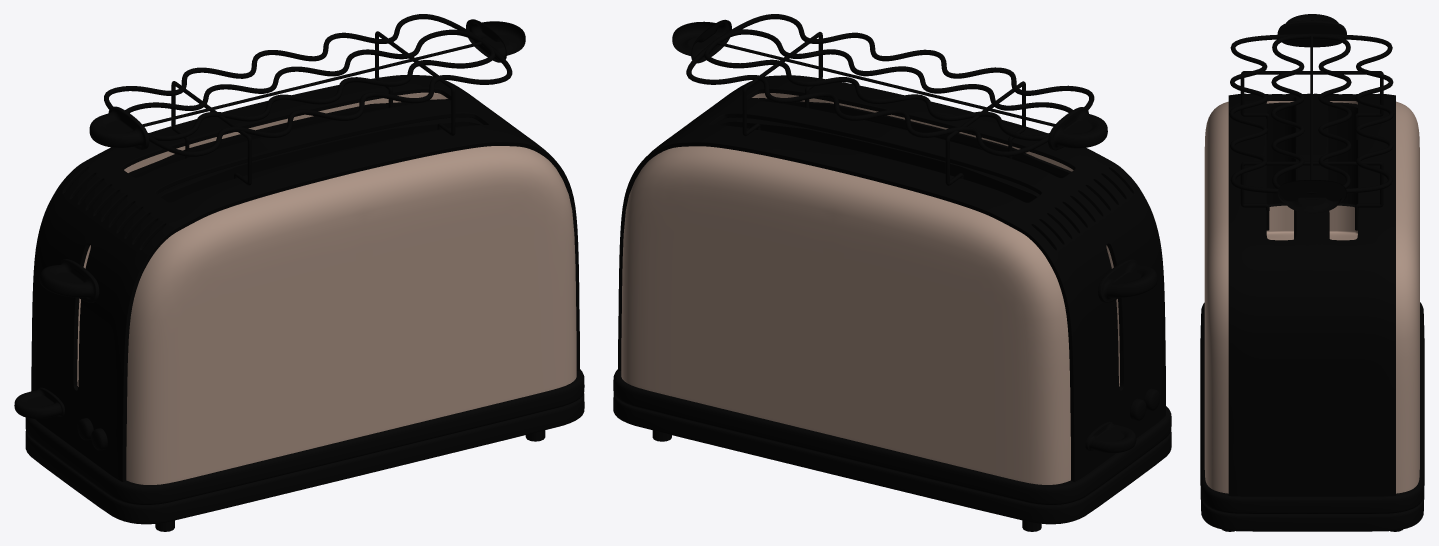
File: models_116_05_fbx_toaster.fbx
3 renders of one model, left to right at view 1: azimuth 30°, elevation 25°; view 2: azimuth 150°, elevation 25°; view 3: azimuth 270°, elevation 25°, orthographic. The views are drawn at different scales.
Parts seen in each view (by area): view 1: cgaxis_models_116_05_01_01, cgaxis_models_116_05_02_01, cgaxis_models_116_05_03_01, cgaxis_models_116_05_02_08, cgaxis_models_116_05_02_02, cgaxis_models_116_05_02_03, cgaxis_models_116_05_03_08, cgaxis_models_116_05_03_07, cgaxis_models_116_05_03_09, cgaxis_models_116_05_02_04, cgaxis_models_116_05_03_06, cgaxis_models_116_05_02_05 (+1 smaller); view 2: cgaxis_models_116_05_01_01, cgaxis_models_116_05_02_01, cgaxis_models_116_05_03_01, cgaxis_models_116_05_02_08, cgaxis_models_116_05_02_02, cgaxis_models_116_05_02_03, cgaxis_models_116_05_03_08, cgaxis_models_116_05_03_07, cgaxis_models_116_05_03_09, cgaxis_models_116_05_02_04, cgaxis_models_116_05_03_06, cgaxis_models_116_05_02_06 (+1 smaller); view 3: cgaxis_models_116_05_02_01, cgaxis_models_116_05_01_01, cgaxis_models_116_05_03_01, cgaxis_models_116_05_02_02, cgaxis_models_116_05_02_08, cgaxis_models_116_05_02_03, cgaxis_models_116_05_03_09, cgaxis_models_116_05_03_08, cgaxis_models_116_05_02_06, cgaxis_models_116_05_02_05, cgaxis_models_116_05_02_04.
Part boxes in pixels (left/top/right/bottom): cgaxis_models_116_05_01_01: left=77, top=92, right=576, bottom=484; cgaxis_models_116_05_02_01: left=31, top=75, right=579, bottom=481; cgaxis_models_116_05_03_01: left=25, top=369, right=584, bottom=524; cgaxis_models_116_05_02_08: left=128, top=99, right=483, bottom=202; cgaxis_models_116_05_02_02: left=104, top=14, right=512, bottom=156; cgaxis_models_116_05_02_03: left=125, top=29, right=495, bottom=141; cgaxis_models_116_05_03_08: left=89, top=106, right=149, bottom=149; cgaxis_models_116_05_03_07: left=39, top=259, right=99, bottom=302; cgaxis_models_116_05_03_09: left=466, top=19, right=525, bottom=62; cgaxis_models_116_05_02_04: left=142, top=41, right=481, bottom=126; cgaxis_models_116_05_03_06: left=14, top=387, right=64, bottom=418; cgaxis_models_116_05_02_05: left=171, top=81, right=251, bottom=185; cgaxis_models_116_05_01_01: left=621, top=93, right=1119, bottom=484; cgaxis_models_116_05_02_01: left=618, top=75, right=1165, bottom=481; cgaxis_models_116_05_03_01: left=613, top=369, right=1171, bottom=524; cgaxis_models_116_05_02_08: left=714, top=98, right=1071, bottom=202; cgaxis_models_116_05_02_02: left=686, top=14, right=1094, bottom=156; cgaxis_models_116_05_02_03: left=704, top=29, right=1072, bottom=140; cgaxis_models_116_05_03_08: left=1048, top=107, right=1107, bottom=150; cgaxis_models_116_05_03_07: left=1098, top=259, right=1157, bottom=302; cgaxis_models_116_05_03_09: left=672, top=19, right=731, bottom=63; cgaxis_models_116_05_02_04: left=717, top=41, right=1055, bottom=126; cgaxis_models_116_05_03_06: left=1085, top=421, right=1136, bottom=453; cgaxis_models_116_05_02_06: left=742, top=32, right=822, bottom=136; cgaxis_models_116_05_02_01: left=1228, top=93, right=1395, bottom=496; cgaxis_models_116_05_01_01: left=1204, top=101, right=1419, bottom=493; cgaxis_models_116_05_03_01: left=1200, top=302, right=1424, bottom=531; cgaxis_models_116_05_02_02: left=1229, top=33, right=1394, bottom=193; cgaxis_models_116_05_02_08: left=1266, top=102, right=1357, bottom=239; cgaxis_models_116_05_02_03: left=1271, top=33, right=1351, bottom=193; cgaxis_models_116_05_03_09: left=1277, top=180, right=1346, bottom=213; cgaxis_models_116_05_03_08: left=1277, top=14, right=1346, bottom=47; cgaxis_models_116_05_02_06: left=1240, top=161, right=1383, bottom=230; cgaxis_models_116_05_02_05: left=1240, top=71, right=1383, bottom=139; cgaxis_models_116_05_02_04: left=1310, top=35, right=1312, bottom=179.
Size of the model in its own units: 10.79 by 7.82 by 4.6.
